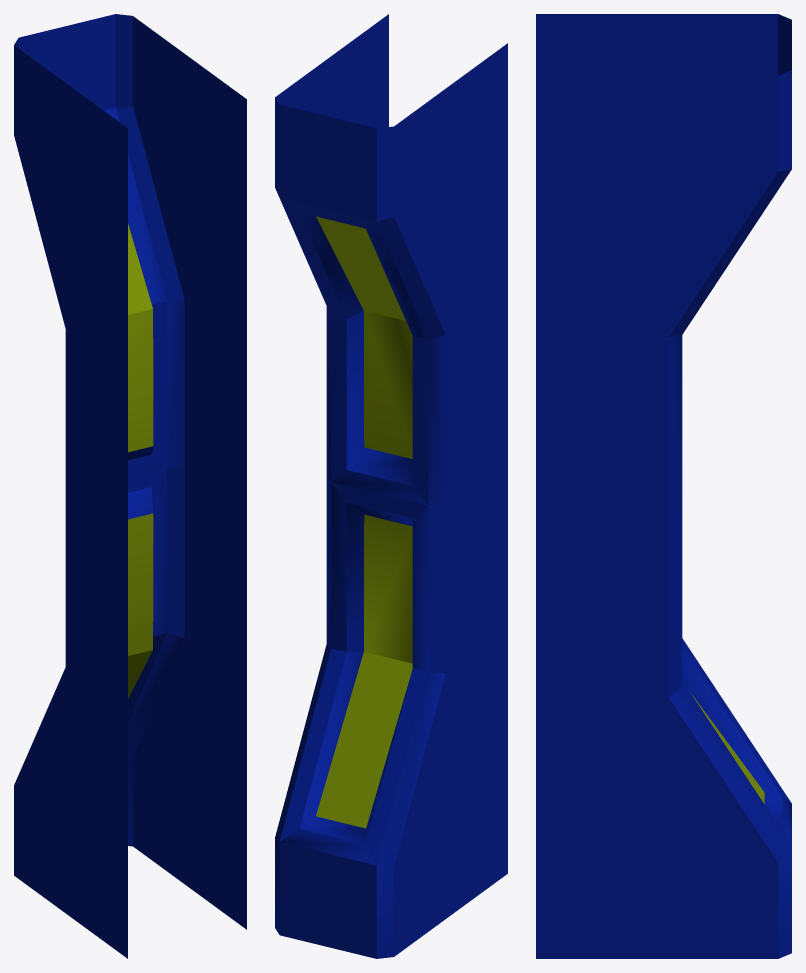
File: OBJ_Pilone.fbx
3 renders of one model, left to right at view 1: azimuth 30°, elevation 25°; view 2: azimuth 150°, elevation 25°; view 3: azimuth 270°, elevation 25°, orthographic. The views are drawn at different scales.
Parts seen in each view (by area): view 1: OBJ_Pilone; view 2: OBJ_Pilone; view 3: OBJ_Pilone.
Part boxes in pixels (box(x1,y1,x2,y2)): OBJ_Pilone: box(14, 14, 246, 958); OBJ_Pilone: box(275, 14, 507, 958); OBJ_Pilone: box(536, 14, 791, 958).
Bounding box in the file's own units: 2 × 13.33 × 3.5.
